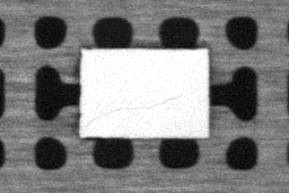DIE_CRACK: (84, 93, 185, 129)
